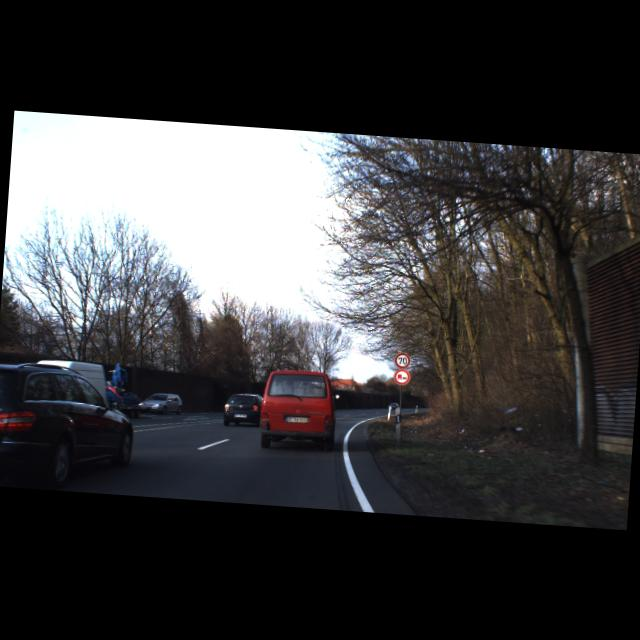prohibitory: (392, 351, 410, 369), (392, 368, 410, 386)
